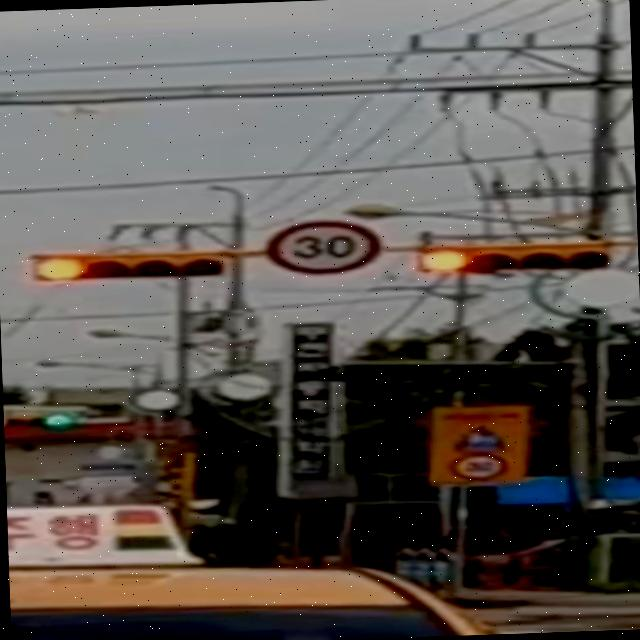Ograniczenie predkosci do 30: (264, 218, 381, 278)
